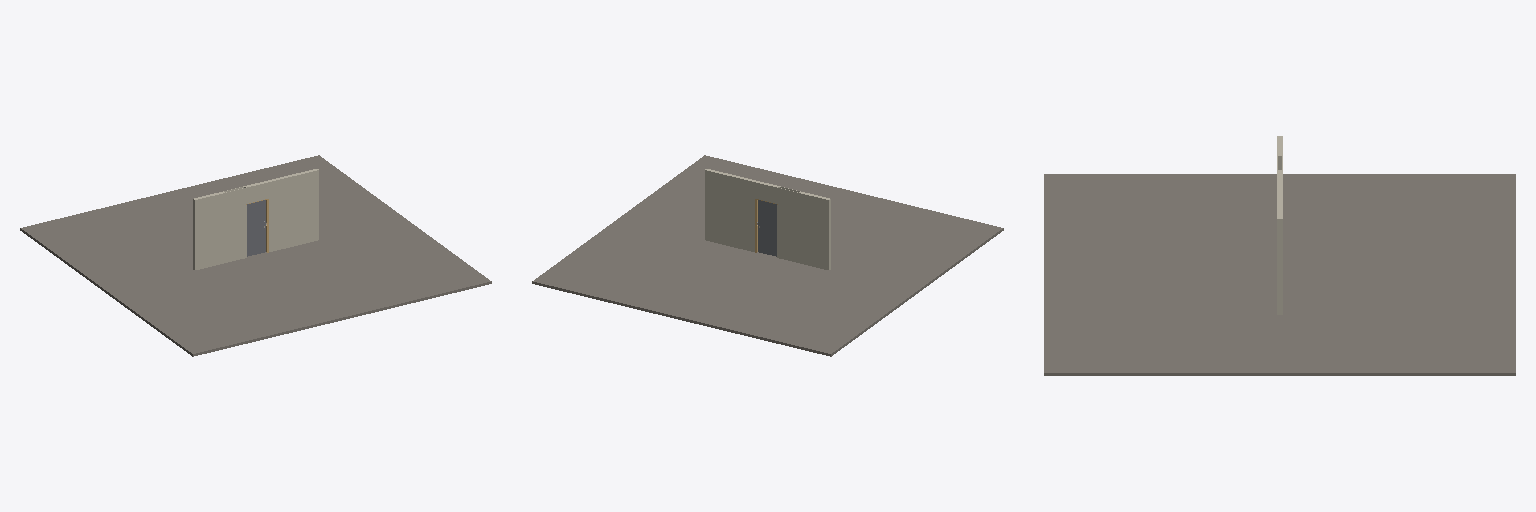
robot.urdf — db0647_sliding_single_full:
<?xml version="1.0" ?>
<robot xmlns:doorbench="https://github.com/adamraudonis/DoorBench/schema/urdf-ext" name="db0647_sliding_single_full">
  <link name="world_env">
    <visual name="floor_vis">
      <origin xyz="0 0 -0.05" rpy="0 0 0"/>
      <geometry>
        <box size="12 12 0.1"/>
      </geometry>
      <material name="mat_floor"/>
    </visual>
    <collision name="floor_col">
      <origin xyz="0 0 -0.05" rpy="0 0 0"/>
      <geometry>
        <box size="12 12 0.1"/>
      </geometry>
    </collision>
    <visual name="wall_right_vis">
      <origin xyz="1.49775 0 1.35" rpy="0 0 0"/>
      <geometry>
        <box size="2.0045 0.145 2.7"/>
      </geometry>
      <material name="mat_wall"/>
    </visual>
    <collision name="wall_right_col">
      <origin xyz="1.49775 0 1.35" rpy="0 0 0"/>
      <geometry>
        <box size="2.0045 0.145 2.7"/>
      </geometry>
    </collision>
    <visual name="wall_header_vis">
      <origin xyz="0.03 0 2.3855" rpy="0 0 0"/>
      <geometry>
        <box size="0.931 0.145 0.629"/>
      </geometry>
      <material name="mat_wall"/>
    </visual>
    <collision name="wall_header_col">
      <origin xyz="0.03 0 2.3855" rpy="0 0 0"/>
      <geometry>
        <box size="0.931 0.145 0.629"/>
      </geometry>
    </collision>
    <visual name="pocket_skin_n_vis">
      <origin xyz="-0.848 -0.0645 1.35" rpy="0 0 0"/>
      <geometry>
        <box size="0.863 0.016 2.7"/>
      </geometry>
      <material name="mat_wall"/>
    </visual>
    <collision name="pocket_skin_n_col">
      <origin xyz="-0.848 -0.0645 1.35" rpy="0 0 0"/>
      <geometry>
        <box size="0.863 0.016 2.7"/>
      </geometry>
    </collision>
    <visual name="pocket_skin_p_vis">
      <origin xyz="-0.848 0.0645 1.35" rpy="0 0 0"/>
      <geometry>
        <box size="0.863 0.016 2.7"/>
      </geometry>
      <material name="mat_wall"/>
    </visual>
    <collision name="pocket_skin_p_col">
      <origin xyz="-0.848 0.0645 1.35" rpy="0 0 0"/>
      <geometry>
        <box size="0.863 0.016 2.7"/>
      </geometry>
    </collision>
    <visual name="wall_pocket_far_vis">
      <origin xyz="-1.88975 0 1.35" rpy="0 0 0"/>
      <geometry>
        <box size="1.2205 0.145 2.7"/>
      </geometry>
      <material name="mat_wall"/>
    </visual>
    <collision name="wall_pocket_far_col">
      <origin xyz="-1.88975 0 1.35" rpy="0 0 0"/>
      <geometry>
        <box size="1.2205 0.145 2.7"/>
      </geometry>
    </collision>
    <visual name="jamb_head_vis">
      <origin xyz="0 0 2.0615" rpy="0 0 0"/>
      <geometry>
        <box size="0.871 0.145 0.019"/>
      </geometry>
      <material name="mat_frame"/>
    </visual>
    <collision name="jamb_head_col">
      <origin xyz="0 0 2.0615" rpy="0 0 0"/>
      <geometry>
        <box size="0.871 0.145 0.019"/>
      </geometry>
    </collision>
    <visual name="track_header_vis">
      <origin xyz="-0.386 0 2.111" rpy="0 0 0"/>
      <geometry>
        <box size="1.685 0.05 0.08"/>
      </geometry>
      <material name="mat_track"/>
    </visual>
    <collision name="track_header_col">
      <origin xyz="-0.386 0 2.111" rpy="0 0 0"/>
      <geometry>
        <box size="1.685 0.05 0.08"/>
      </geometry>
    </collision>
    <visual name="leaf_hook_keeper_vis">
      <origin xyz="0.4245 0 1.08" rpy="0 0 0"/>
      <geometry>
        <box size="0.016 0.03 0.012"/>
      </geometry>
      <material name="mat_hook"/>
    </visual>
    <collision name="leaf_hook_keeper_col">
      <origin xyz="0.4245 0 1.08" rpy="0 0 0"/>
      <geometry>
        <box size="0.016 0.03 0.012"/>
      </geometry>
    </collision>
    <visual name="jamb_latch_pwall_1080_n_vis">
      <origin xyz="0.456 -0.048 1.08" rpy="0 0 0"/>
      <geometry>
        <box size="0.079 0.049 0.12"/>
      </geometry>
      <material name="mat_frame"/>
    </visual>
    <collision name="jamb_latch_pwall_1080_n_col">
      <origin xyz="0.456 -0.048 1.08" rpy="0 0 0"/>
      <geometry>
        <box size="0.079 0.049 0.12"/>
      </geometry>
    </collision>
    <visual name="jamb_latch_pwall_1080_p_vis">
      <origin xyz="0.456 0.048 1.08" rpy="0 0 0"/>
      <geometry>
        <box size="0.079 0.049 0.12"/>
      </geometry>
      <material name="mat_frame"/>
    </visual>
    <collision name="jamb_latch_pwall_1080_p_col">
      <origin xyz="0.456 0.048 1.08" rpy="0 0 0"/>
      <geometry>
        <box size="0.079 0.049 0.12"/>
      </geometry>
    </collision>
    <visual name="jamb_latch_pback_1080_vis">
      <origin xyz="0.4915 0 1.08" rpy="0 0 0"/>
      <geometry>
        <box size="0.008 0.047 0.12"/>
      </geometry>
      <material name="mat_frame"/>
    </visual>
    <collision name="jamb_latch_pback_1080_col">
      <origin xyz="0.4915 0 1.08" rpy="0 0 0"/>
      <geometry>
        <box size="0.008 0.047 0.12"/>
      </geometry>
    </collision>
    <visual name="jamb_latch_0_vis">
      <origin xyz="0.456 0 0.51" rpy="0 0 0"/>
      <geometry>
        <box size="0.079 0.145 1.02"/>
      </geometry>
      <material name="mat_frame"/>
    </visual>
    <collision name="jamb_latch_0_col">
      <origin xyz="0.456 0 0.51" rpy="0 0 0"/>
      <geometry>
        <box size="0.079 0.145 1.02"/>
      </geometry>
    </collision>
    <visual name="jamb_latch_1_vis">
      <origin xyz="0.456 0 1.596" rpy="0 0 0"/>
      <geometry>
        <box size="0.079 0.145 0.912"/>
      </geometry>
      <material name="mat_frame"/>
    </visual>
    <collision name="jamb_latch_1_col">
      <origin xyz="0.456 0 1.596" rpy="0 0 0"/>
      <geometry>
        <box size="0.079 0.145 0.912"/>
      </geometry>
    </collision>
    <visual name="leaf_hook_keeper_plate_b_vis">
      <origin xyz="0.416 0 1.017" rpy="1.570796 0 -1.570796"/>
      <geometry>
        <box size="0.059 0.006 0.001"/>
      </geometry>
      <material name="mat_hook"/>
    </visual>
    <visual name="leaf_hook_keeper_plate_l_vis">
      <origin xyz="0.416 0.0265 1.08" rpy="1.570796 0 -1.570796"/>
      <geometry>
        <box size="0.006 0.12 0.001"/>
      </geometry>
      <material name="mat_hook"/>
    </visual>
    <visual name="leaf_hook_keeper_plate_t_vis">
      <origin xyz="0.416 0 1.143" rpy="1.570796 0 -1.570796"/>
      <geometry>
        <box size="0.059 0.006 0.001"/>
      </geometry>
      <material name="mat_hook"/>
    </visual>
    <visual name="leaf_hook_keeper_plate_r_vis">
      <origin xyz="0.416 -0.0265 1.08" rpy="1.570796 0 -1.570796"/>
      <geometry>
        <box size="0.006 0.12 0.001"/>
      </geometry>
      <material name="mat_hook"/>
    </visual>
    <visual name="track_header_bracket_vis">
      <origin xyz="-0.386 0.04075 2.111" rpy="0 0 0"/>
      <geometry>
        <box size="1.348 0.0325 0.064"/>
      </geometry>
      <material name="mat_hook"/>
    </visual>
    <visual name="leaf_hook_keeper_bracket_vis">
      <origin xyz="0.4245 0.01925 1.08" rpy="0 0 0"/>
      <geometry>
        <box size="0.0128 0.0095 0.01"/>
      </geometry>
      <material name="mat_hook"/>
    </visual>
  </link>
  <link name="leaf">
    <inertial>
      <origin xyz="0.000904 0 1.028058" rpy="0 0 0"/>
      <mass value="12.14666"/>
      <inertia ixx="4.170727237" ixy="0" ixz="-0.000312602" iyy="4.841081384" iyz="0" izz="0.672836251"/>
    </inertial>
    <visual name="leaf_slab_vis">
      <origin xyz="0 0 1.028" rpy="0 0 0"/>
      <geometry>
        <box size="0.813 0.035 2.032"/>
      </geometry>
      <material name="mat_leaf"/>
    </visual>
    <collision name="leaf_slab_col">
      <origin xyz="0 0 1.028" rpy="0 0 0"/>
      <geometry>
        <box size="0.813 0.035 2.032"/>
      </geometry>
    </collision>
    <visual name="leaf_pull_n_vis">
      <origin xyz="0.3165 -0.018 1" rpy="0 0 0"/>
      <geometry>
        <box size="0.05 0.001 0.1"/>
      </geometry>
      <material name="mat_op_nickel_satin"/>
    </visual>
    <visual name="leaf_pull_p_vis">
      <origin xyz="0.3165 0.018 1" rpy="0 0 0"/>
      <geometry>
        <box size="0.05 0.001 0.1"/>
      </geometry>
      <material name="mat_op_nickel_satin"/>
    </visual>
    <visual name="leaf_hook_faceplate_vis">
      <origin xyz="0.4059 0 1.08" rpy="0 0 0"/>
      <geometry>
        <box size="0.0012 0.022 0.09"/>
      </geometry>
      <material name="mat_hook"/>
    </visual>
  </link>
  <link name="leaf_hook_thumbturn">
    <inertial>
      <origin xyz="0 -0.012928 0" rpy="0 0 0"/>
      <mass value="0.178946"/>
      <inertia ixx="0.000032438" ixy="0" ixz="0" iyy="0.000026045" iyz="0" izz="0.000026215"/>
    </inertial>
    <visual name="leaf_hook_tt_mesh_vis">
      <origin xyz="0 0 0" rpy="1.570796 0 0"/>
      <geometry>
        <mesh filename="../../hardware/thumbturn_eb5c9899a3.obj"/>
      </geometry>
      <material name="mat_hook"/>
    </visual>
    <collision name="leaf_hook_tt_mesh_col">
      <origin xyz="0 0 0" rpy="1.570796 0 0"/>
      <geometry>
        <mesh filename="../../hardware/thumbturn_eb5c9899a3.obj"/>
      </geometry>
    </collision>
    <collision name="leaf_hook_tt_col_col">
      <origin xyz="0 -0.02 0" rpy="0 0 0"/>
      <geometry>
        <box size="0.012 0.024 0.032"/>
      </geometry>
    </collision>
  </link>
  <link name="leaf_hook">
    <inertial>
      <origin xyz="0.026737 0 -0.009263" rpy="0 0 0"/>
      <mass value="0.072048"/>
      <inertia ixx="0.000008186" ixy="0" ixz="-0.000004496" iyy="0.000019175" iyz="0" izz="0.00001219"/>
    </inertial>
    <visual name="leaf_hook_arm_vis">
      <origin xyz="0.02 0 -0.016" rpy="0 0 0"/>
      <geometry>
        <box size="0.044 0.01 0.012"/>
      </geometry>
      <material name="mat_hook"/>
    </visual>
    <collision name="leaf_hook_arm_col">
      <origin xyz="0.02 0 -0.016" rpy="0 0 0"/>
      <geometry>
        <box size="0.044 0.01 0.012"/>
      </geometry>
    </collision>
    <visual name="leaf_hook_tip_vis">
      <origin xyz="0.036 0 0" rpy="0 0 0"/>
      <geometry>
        <box size="0.012 0.01 0.032"/>
      </geometry>
      <material name="mat_hook"/>
    </visual>
    <collision name="leaf_hook_tip_col">
      <origin xyz="0.036 0 0" rpy="0 0 0"/>
      <geometry>
        <box size="0.012 0.01 0.032"/>
      </geometry>
    </collision>
  </link>
  <joint name="leaf_slide" type="prismatic">
    <origin xyz="0 0 0" rpy="0 0 0"/>
    <parent link="world_env"/>
    <child link="leaf"/>
    <axis xyz="-1 0 0"/>
    <limit lower="0" upper="0.772" effort="5000" velocity="10"/>
    <dynamics damping="2.619883" friction="3.647384"/>
  </joint>
  <joint name="leaf_hook_thumbturn_hinge" type="revolute">
    <origin xyz="0.3465 -0.0175 1.22" rpy="0 0 0"/>
    <parent link="leaf"/>
    <child link="leaf_hook_thumbturn"/>
    <axis xyz="0 1 0"/>
    <limit lower="0" upper="1" effort="2000" velocity="10"/>
    <dynamics damping="0.05" friction="0.25"/>
  </joint>
  <joint name="leaf_hook_hinge" type="revolute">
    <origin xyz="0.4065 0 1.08" rpy="0 0 0"/>
    <parent link="leaf"/>
    <child link="leaf_hook"/>
    <axis xyz="0 1 0"/>
    <limit lower="0" upper="1" effort="2000" velocity="10"/>
    <dynamics damping="0.05" friction="0.1"/>
    <mimic joint="leaf_hook_thumbturn_hinge" multiplier="1" offset="0"/>
  </joint>
  <material name="mat_floor">
    <color rgba="0.55 0.53 0.5 1"/>
  </material>
  <material name="mat_frame">
    <color rgba="0.82 0.7 0.5 1"/>
  </material>
  <material name="mat_hook">
    <color rgba="0.75 0.76 0.77 1"/>
  </material>
  <material name="mat_leaf">
    <color rgba="0.5 0.51 0.53 1"/>
  </material>
  <material name="mat_op_nickel_satin">
    <color rgba="0.72 0.7 0.66 1"/>
  </material>
  <material name="mat_track">
    <color rgba="0.8 0.81 0.83 1"/>
  </material>
  <material name="mat_wall">
    <color rgba="0.78 0.76 0.7 1"/>
  </material>
</robot>

--- Render facts (derived) ---
Views: 3 orthographic renders of the robot side by side, from view 1: azimuth 30°, elevation 25°; view 2: azimuth 150°, elevation 25°; view 3: azimuth 270°, elevation 25°.
Robot: db0647_sliding_single_full — 4 links, 3 joints (2 revolute, 1 prismatic); root link world_env; default pose: all joints at 0.
Visible links, largest first — view 1: world_env, leaf; view 2: world_env, leaf; view 3: world_env.
Link boxes in pixels (box(x1,y1,x2,y2)): world_env: box(20, 155, 491, 356); leaf: box(247, 200, 265, 256); world_env: box(532, 155, 1003, 356); leaf: box(758, 200, 776, 256); world_env: box(1044, 136, 1515, 375).
Size in the robot's own frame: 12 by 12 by 2.8 metres.
1 mesh visuals loaded from 1 distinct referenced files (1 OBJ).
